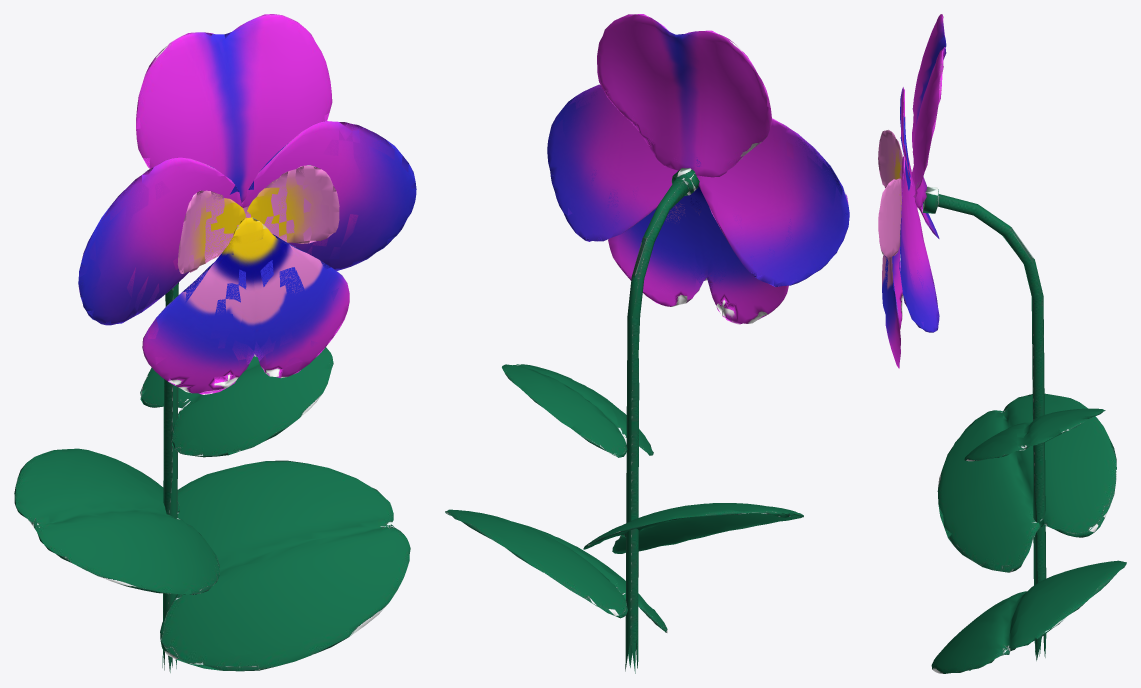
3 renders of one model, left to right at view 1: azimuth 30°, elevation 25°; view 2: azimuth 150°, elevation 25°; view 3: azimuth 270°, elevation 25°, orthographic. The views are drawn at different scales.
Parts seen in each view (by area): view 1: 59d25116; view 2: 59d25116; view 3: 59d25116.
Boxes of the visible parts, x1=… form: 59d25116: x1=14, y1=14, x2=416, y2=672; 59d25116: x1=445, y1=14, x2=849, y2=673; 59d25116: x1=878, y1=14, x2=1126, y2=673.
Bounding box in the file's own units: 0.0913 × 0.1576 × 0.0567.
Materials: 6 (6 with a texture image).
